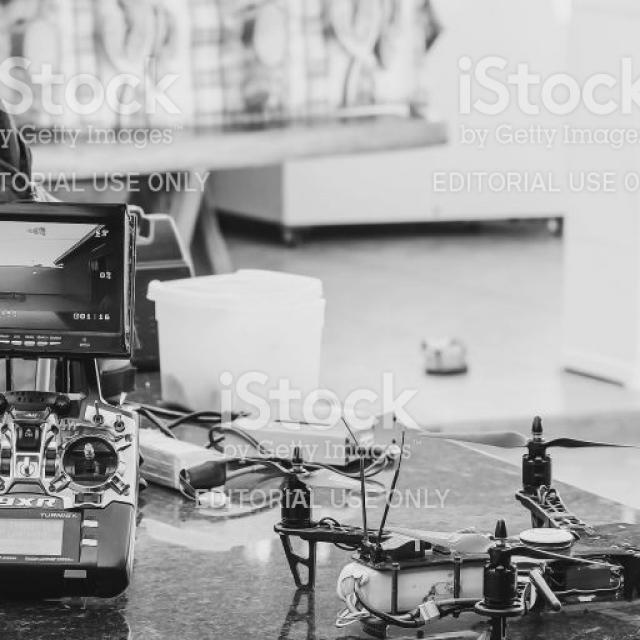drone: (250, 420, 640, 640)
